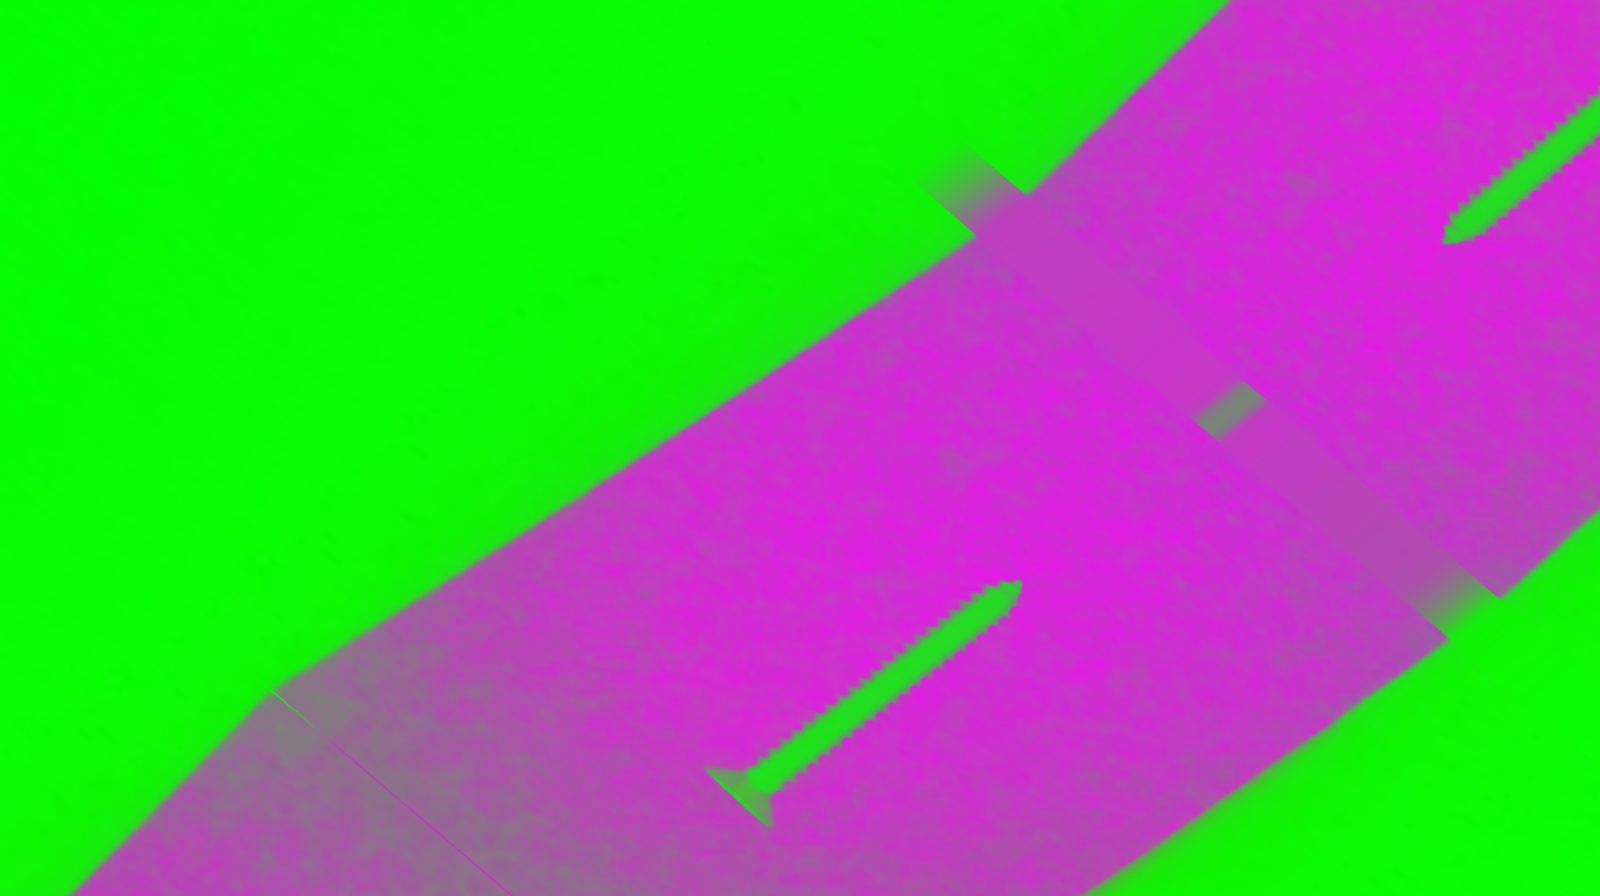S002: (657, 506, 1089, 859)
